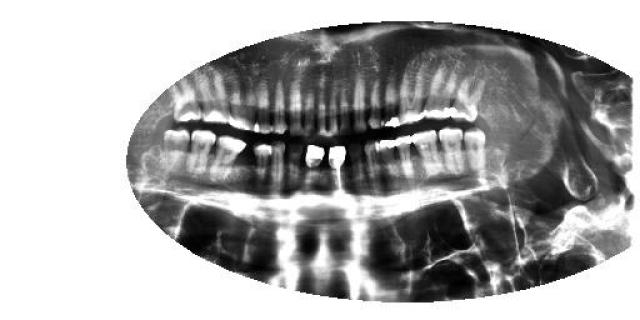Fillings: (423, 69, 452, 121), (452, 76, 483, 124), (394, 135, 416, 180), (382, 69, 398, 130), (379, 138, 400, 184), (304, 145, 325, 171)
Implant: (327, 146, 348, 192)
